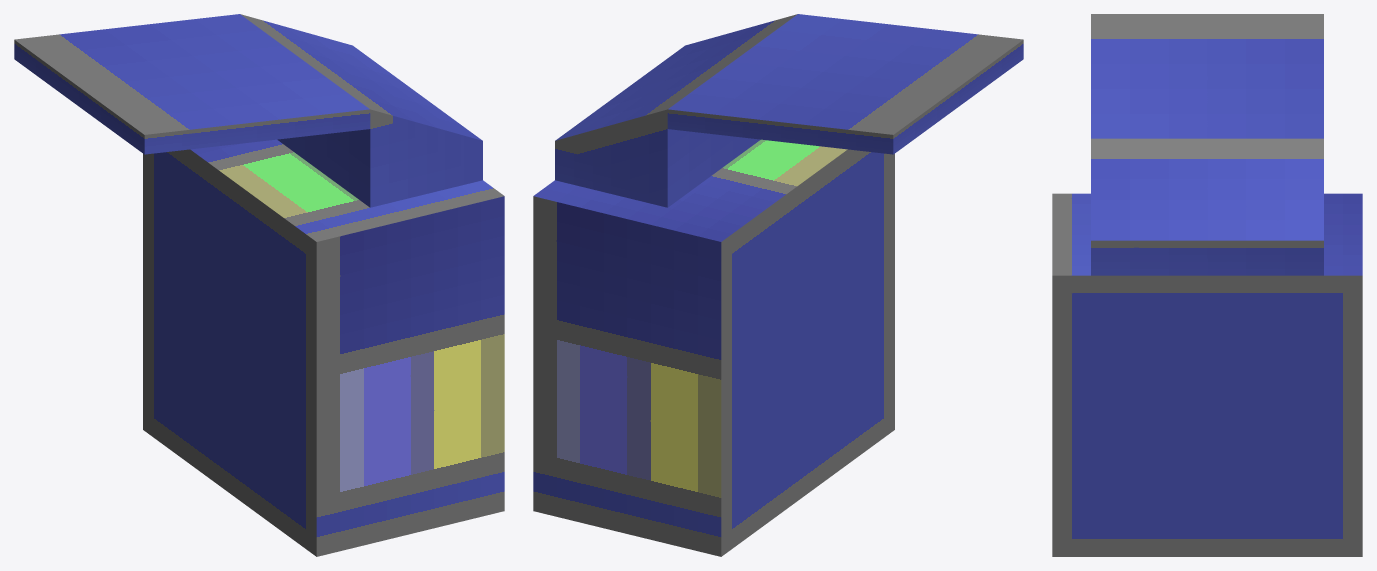
File: plug.obj
3 renders of one model, left to right at view 1: azimuth 30°, elevation 25°; view 2: azimuth 150°, elevation 25°; view 3: azimuth 270°, elevation 25°, orthographic. The views are drawn at different scales.
Visible parts, largest first — view 1: Cube.007_Cube.009; view 2: Cube.007_Cube.009; view 3: Cube.007_Cube.009.
Part boxes in pixels (x1=…): Cube.007_Cube.009: x1=14, y1=14, x2=504, y2=556; Cube.007_Cube.009: x1=533, y1=14, x2=1023, y2=556; Cube.007_Cube.009: x1=1052, y1=14, x2=1362, y2=556.
Size of the model in its own units: 9 by 11.25 by 8.
